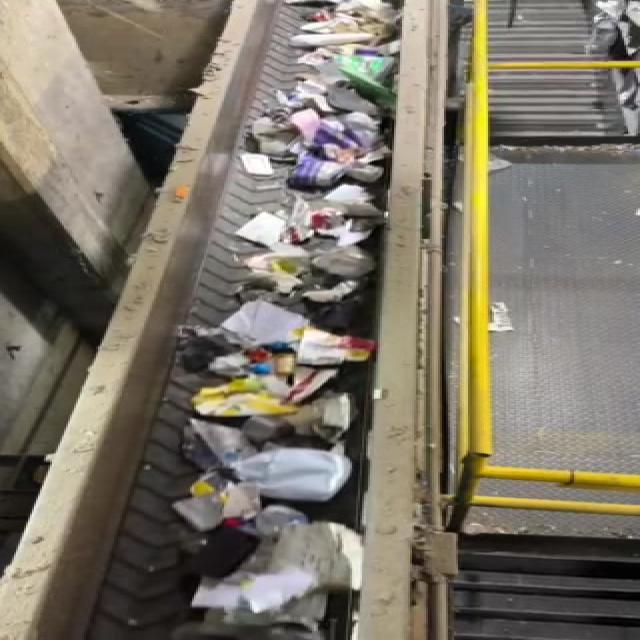hdpe: (218, 445, 369, 504)
paper: (257, 520, 380, 587)
pp: (195, 522, 249, 586), (295, 395, 367, 440)
